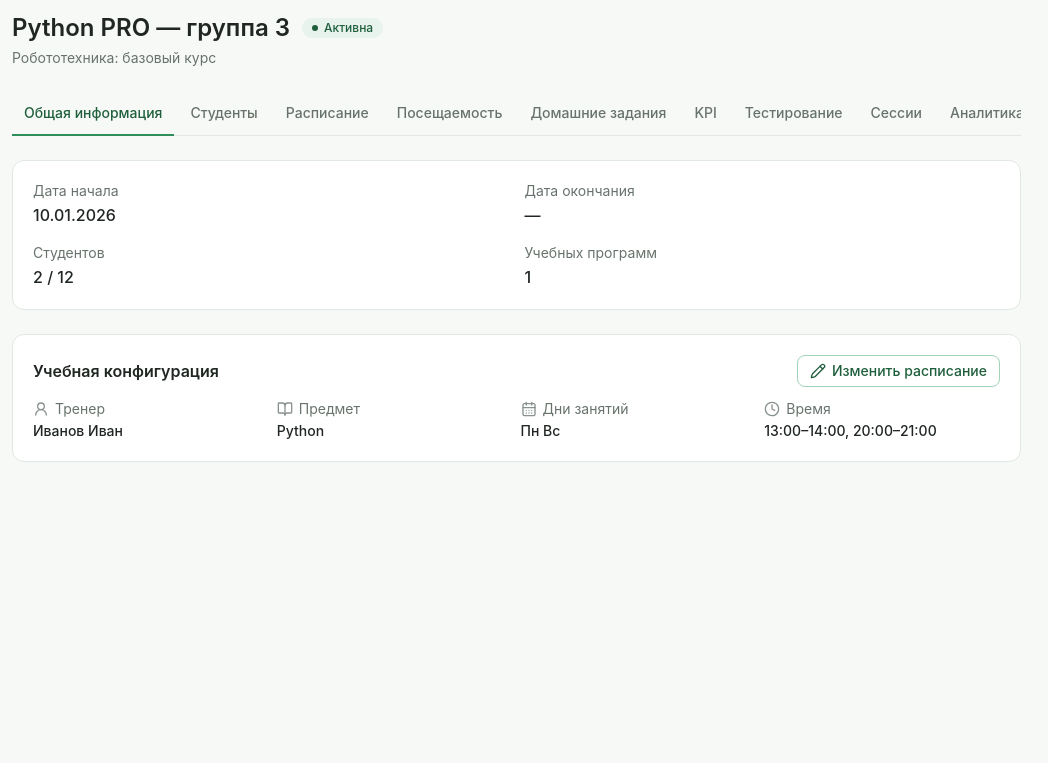
GroupDetailPage — Team Lead academic configuration › validates time on the client and shows backend conflicts
The image size is (1048, 763).
Step 1. Click the tab "Расписание" → (327,114), box [274, 92, 381, 136]
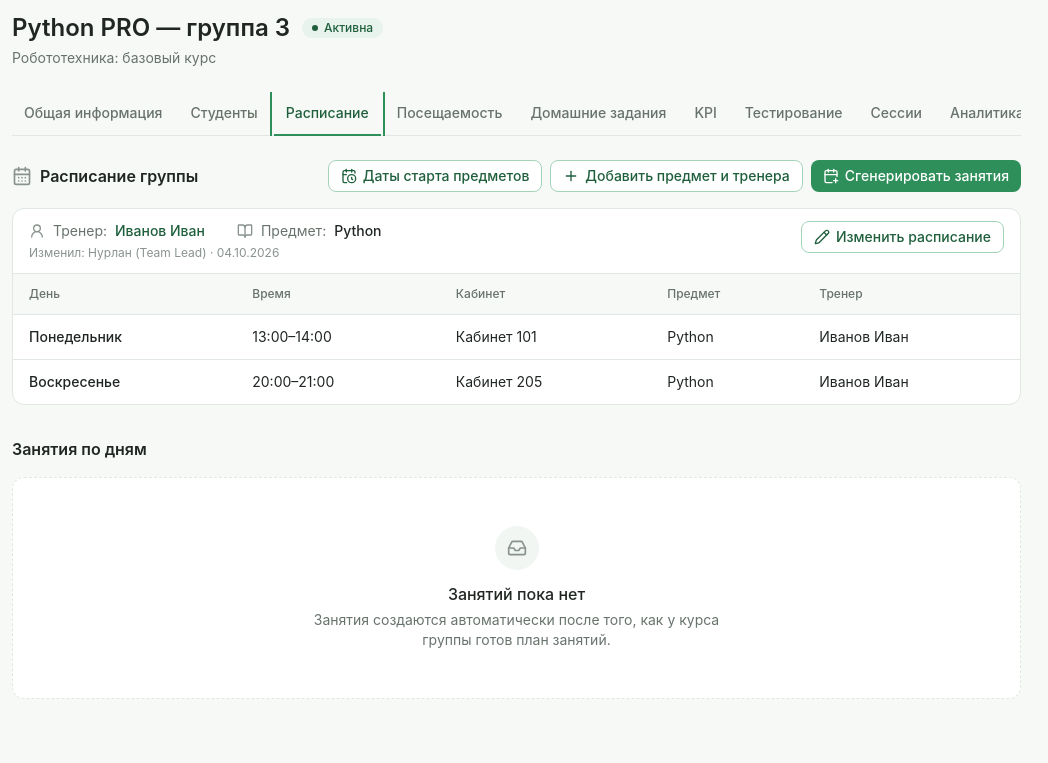
Step 2. Click the button "Изменить расписание" → (902,237), box [801, 221, 1004, 253]
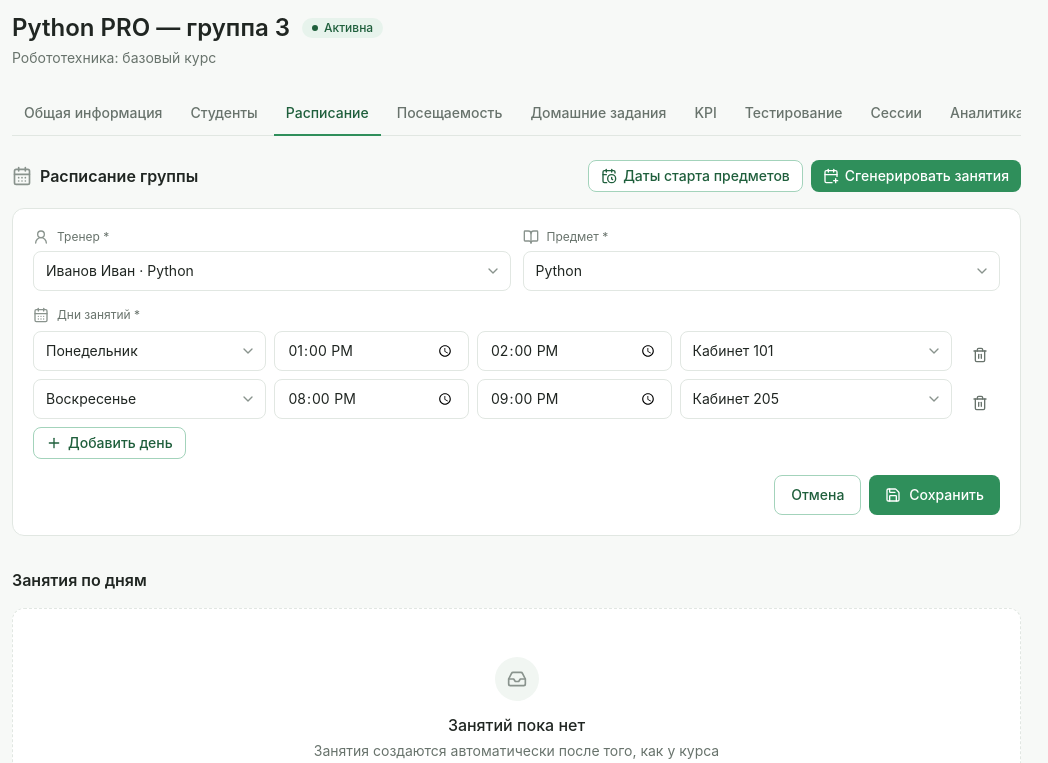
Step 3. Replace the text in the 1st time field named "Окончание" with "12:00" → (574,351), box [477, 331, 672, 371]
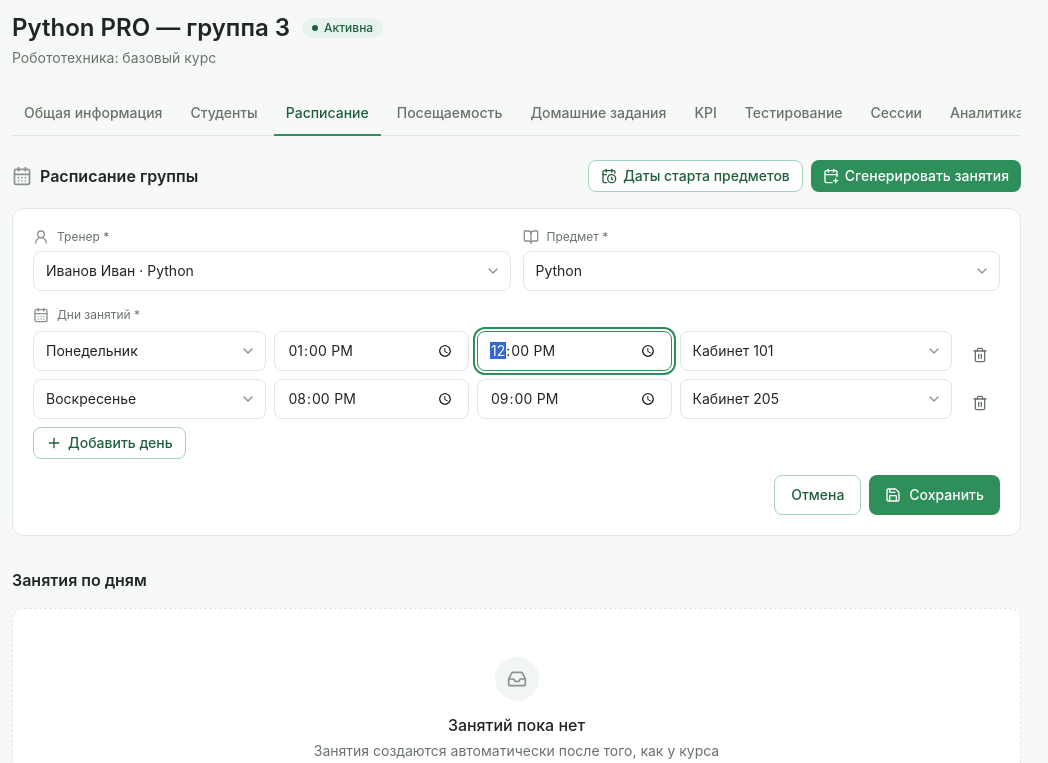
Step 4. Click the button "Сохранить" → (935,495), box [869, 475, 1000, 515]
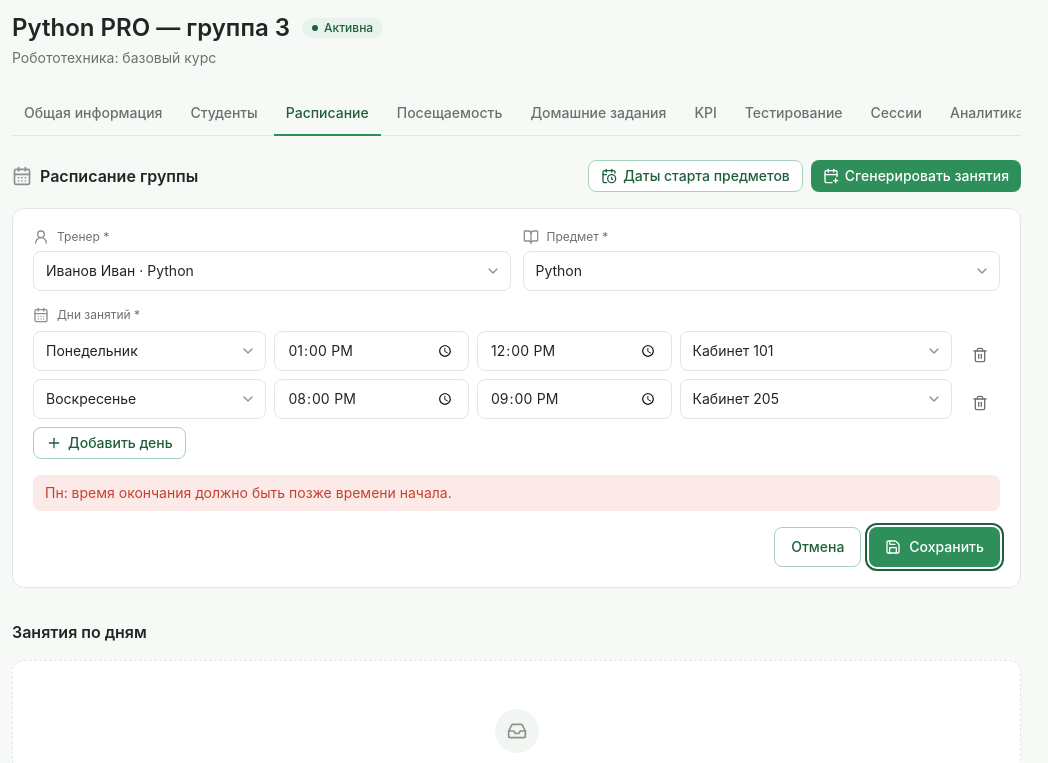
Check: the message reads "Пн: время окончания должно быть позже времени начала.", box [45, 484, 452, 501]
Step 5. Replace the text in the 1st time field named "Окончание" with "14:00" → (574,351), box [477, 331, 672, 371]
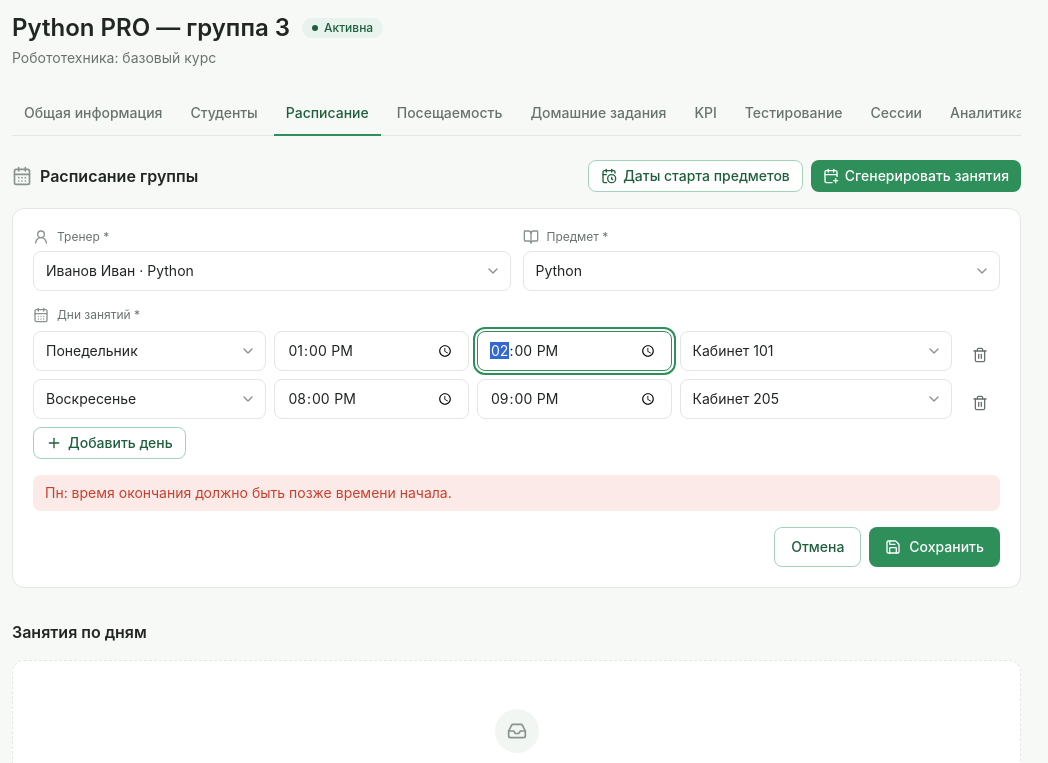
Step 6. Click the button "Сохранить" → (935,547), box [869, 527, 1000, 567]
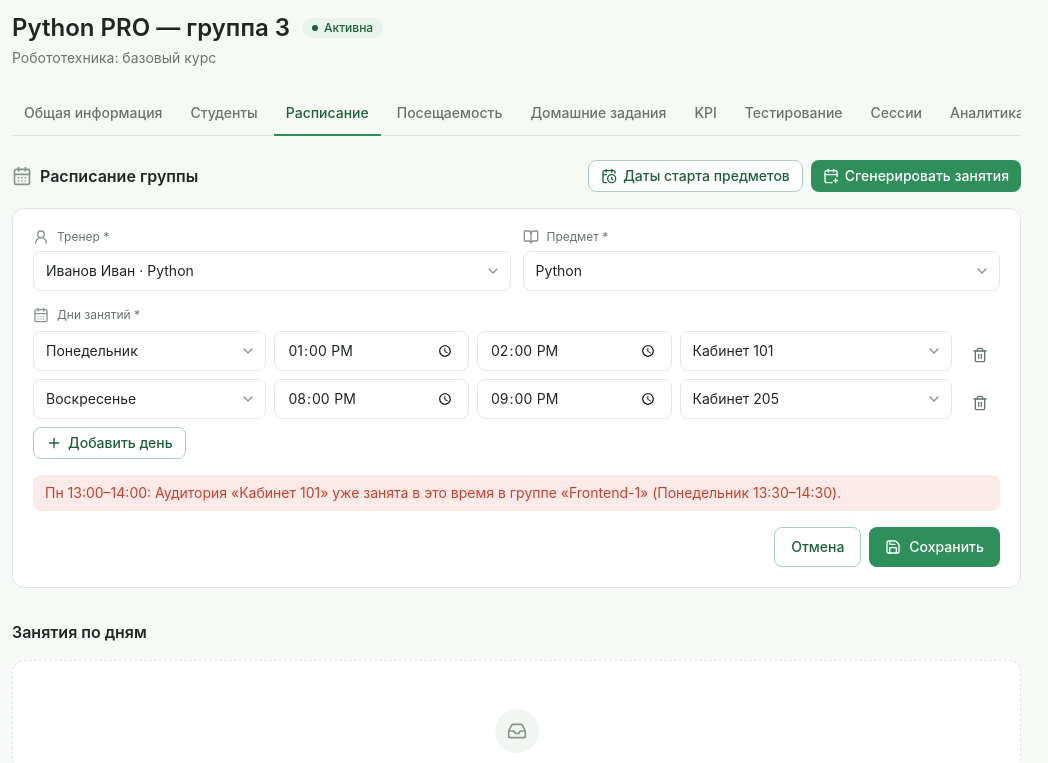
Check: the message shows "Аудитория «Кабинет 101» уже занята", box [45, 484, 841, 501]
